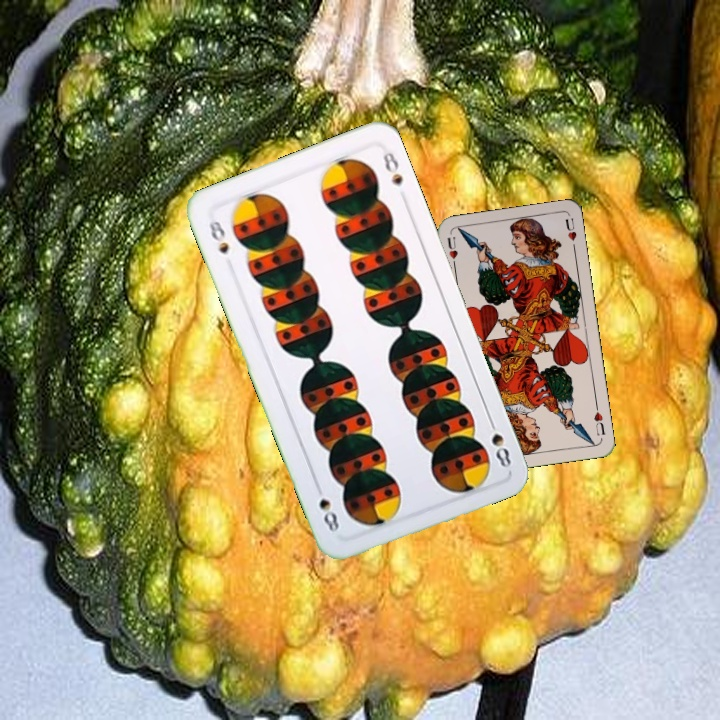HU: (590, 400, 608, 438), (443, 232, 460, 271)
S8: (484, 413, 514, 471), (204, 213, 232, 257)
